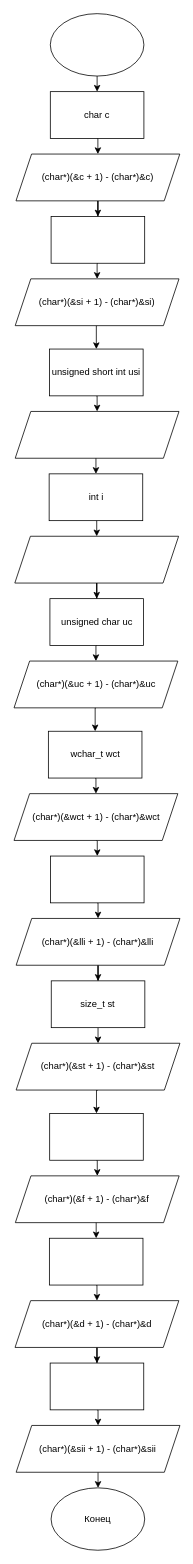
Some shapes in this 193 by 1564 pixel diagram are drawn without their labels. The centre of each missing label's shape, as x and y in pixels:
(char*)(&i + 1) - (char*)&i: (x=96, y=559)
(char*)(&usi + 1) - (char*)&usi: (x=96, y=434)
double d: (x=96, y=1261)
float f: (x=96, y=1136)
long long int lli: (x=97, y=879)
short int si: (x=97, y=239)
signed int sii: (x=96, y=1386)
Начало: (x=97, y=44)
